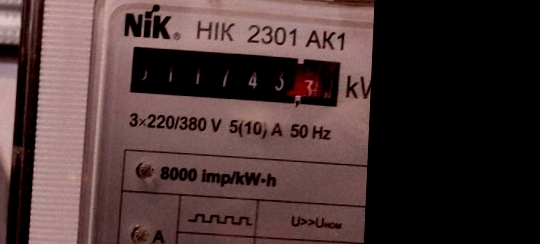0: (135, 54, 150, 82)
1: (162, 56, 177, 84), (190, 58, 204, 86)
3: (270, 65, 286, 93), (299, 77, 315, 98)
4: (244, 65, 260, 91)
7: (217, 62, 232, 88)
screen: (121, 40, 349, 114)
